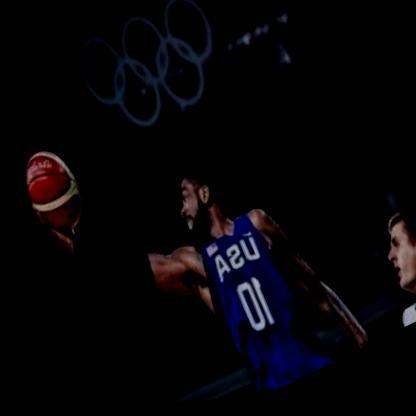basketball: (6, 133, 102, 247)
